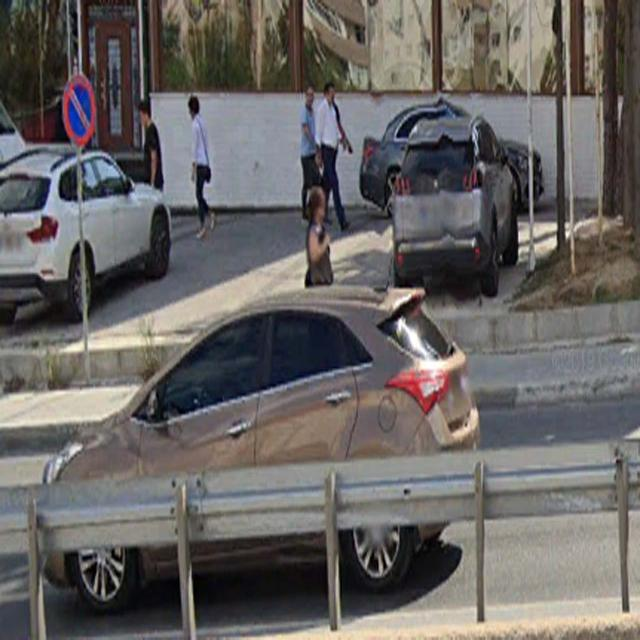parkyasak: (62, 73, 96, 145)
